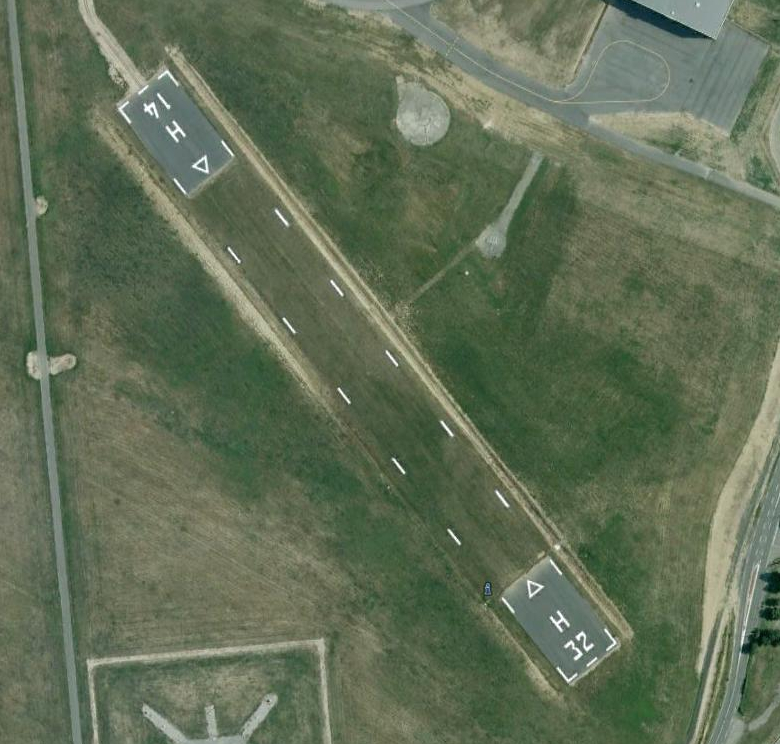heliport: (544, 607, 573, 635), (161, 119, 188, 145)
